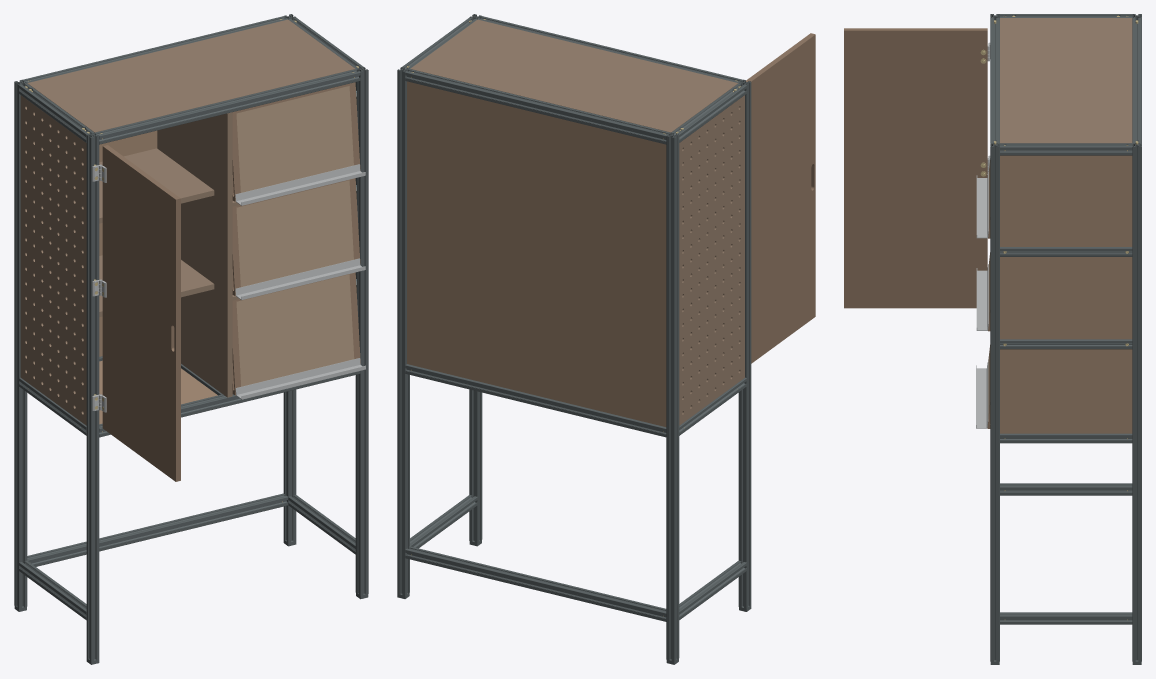
The model's file is cabinet-90.glb.
3 views of the same model, side by side, from view 1: azimuth 30°, elevation 25°; view 2: azimuth 150°, elevation 25°; view 3: azimuth 270°, elevation 25° (orthographic).
Visible parts, largest first — view 1: Left-door-face-18, Left-pegboard-18, Top-18, Center-18, Plywood-infill-6-1, Plywood-infill-6-3, Plywood-infill-6-2, Post-4-23, Post-966-23, Post-4-470, Beam-top-front, Beam-lower-rear (+21 smaller); view 2: Back-infill-8, Left-door-face-18, Left-pegboard-18, Top-18, Post-4-470, Post-966-470, Post-4-23, Beam-top-rear, Beam-lower-rear, Beam-body-rear, Post-966-23, Beam-top-front (+4 smaller); view 3: Left-door-face-18, Top-18, Right-infill-8-3, Right-infill-8-1, Right-infill-8-2, Post-966-23, Post-966-470, Beam-lower-side-4, Beam-lower-side-966, Beam-top-side-966, Beam-body-side-966, Beam-right-shelf-1 (+7 smaller).
Boxes of the visible parts, box(x1,y1,x2,y2) form: Left-door-face-18: box(102, 145, 180, 481); Left-pegboard-18: box(20, 95, 86, 425); Top-18: box(27, 19, 355, 132); Center-18: box(157, 112, 232, 397); Plywood-infill-6-1: box(236, 274, 354, 386); Plywood-infill-6-3: box(236, 86, 353, 192); Plywood-infill-6-2: box(236, 180, 353, 287); Post-4-23: box(86, 132, 99, 661); Post-966-23: box(355, 67, 368, 595); Post-4-470: box(14, 79, 27, 608); Beam-top-front: box(95, 69, 360, 144); Beam-lower-rear: box(27, 493, 288, 566); Back-infill-8: box(407, 81, 666, 426); Left-door-face-18: box(746, 33, 815, 363); Left-pegboard-18: box(679, 95, 744, 425); Top-18: box(410, 19, 738, 132); Post-4-470: box(666, 132, 679, 661); Post-966-470: box(397, 67, 409, 595); Post-4-23: box(738, 79, 751, 608); Beam-top-rear: box(405, 69, 670, 144); Beam-lower-rear: box(405, 546, 666, 621); Beam-body-rear: box(405, 364, 666, 437); Post-966-23: box(469, 14, 482, 542); Beam-top-front: box(478, 16, 742, 82); Left-door-face-18: box(844, 28, 987, 308); Top-18: box(1000, 18, 1132, 143); Right-infill-8-3: box(1000, 155, 1132, 246); Right-infill-8-1: box(1000, 349, 1132, 433); Right-infill-8-2: box(1000, 257, 1132, 339); Post-966-23: box(990, 143, 999, 661); Post-966-470: box(1132, 143, 1141, 661); Beam-lower-side-4: box(1000, 483, 1132, 495); Beam-lower-side-966: box(1000, 612, 1132, 624); Beam-top-side-966: box(1000, 143, 1132, 155); Beam-body-side-966: box(1000, 433, 1132, 443); Beam-right-shelf-1: box(1000, 339, 1132, 349).
Bounding box in the file's own units: 0.992 × 1.8 × 0.9375.
